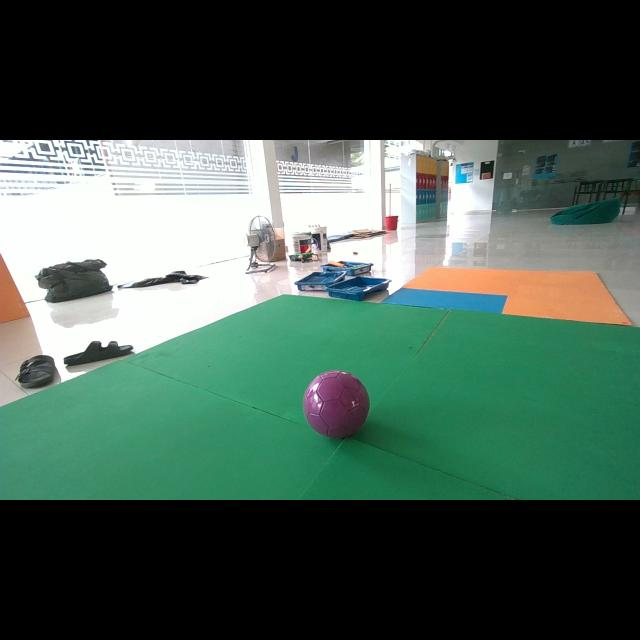P: (302, 370, 369, 438)
